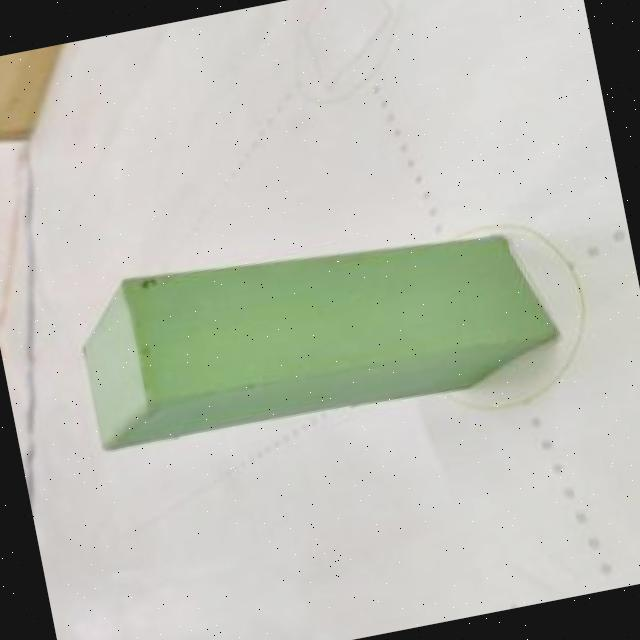greenbox: (67, 198, 568, 460)
